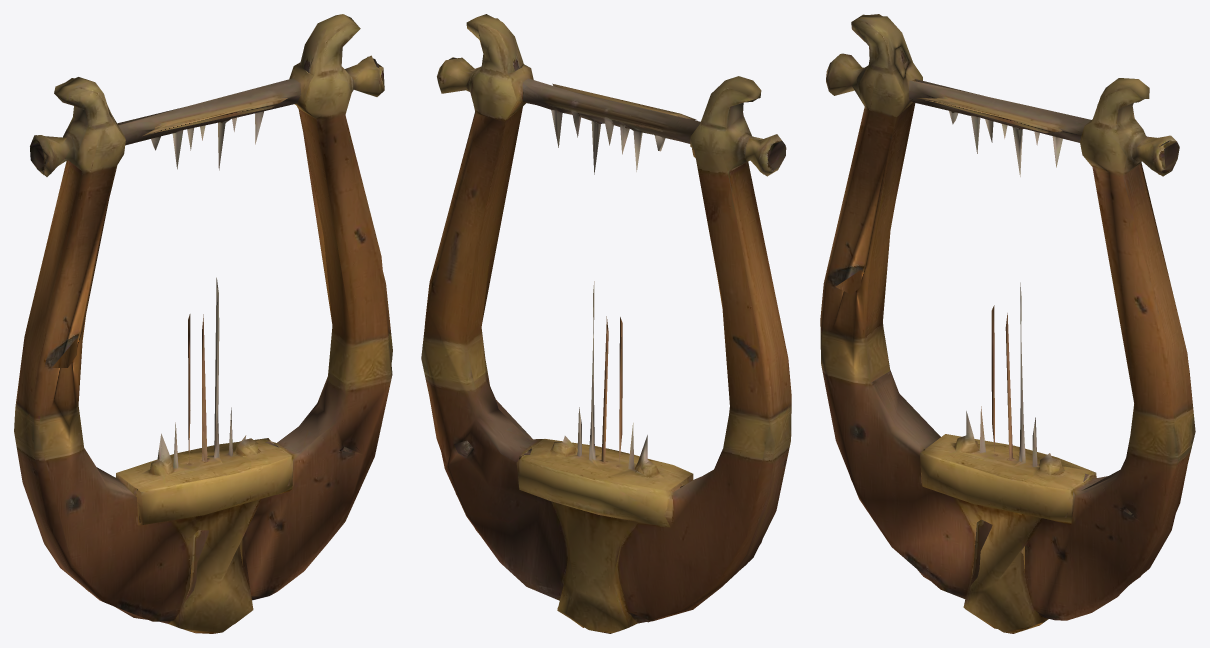
The model's file is harp.glb.
3 views of the same model, side by side, from view 1: azimuth 30°, elevation 25°; view 2: azimuth 150°, elevation 25°; view 3: azimuth 330°, elevation 25° (orthographic).
Visible parts, largest first — view 1: geometry_0; view 2: geometry_0; view 3: geometry_0.
Boxes of the visible parts, x1,y1,x2,y2 form: geometry_0: (14,14,392,633); geometry_0: (421,14,791,633); geometry_0: (820,14,1195,633).
Bounding box in the file's own units: 0.64 × 0.9962 × 0.1127.
1 material, 1 textured.
